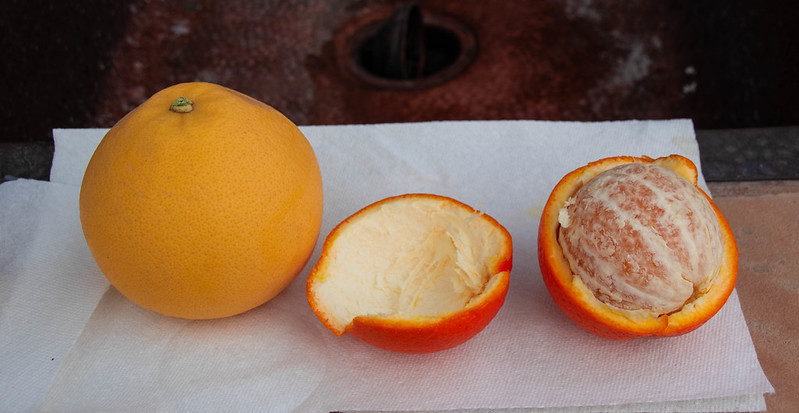orange: (76, 73, 328, 331)
